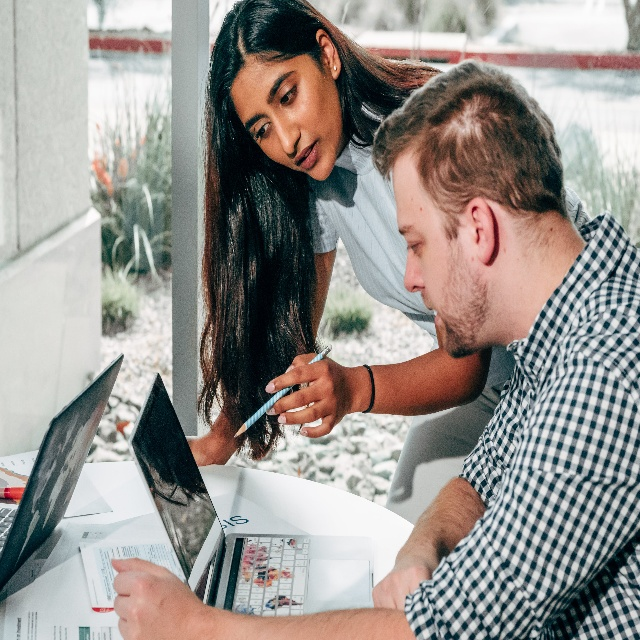Sin_guantes: (110, 554, 204, 640), (264, 352, 350, 439), (372, 552, 433, 608)
